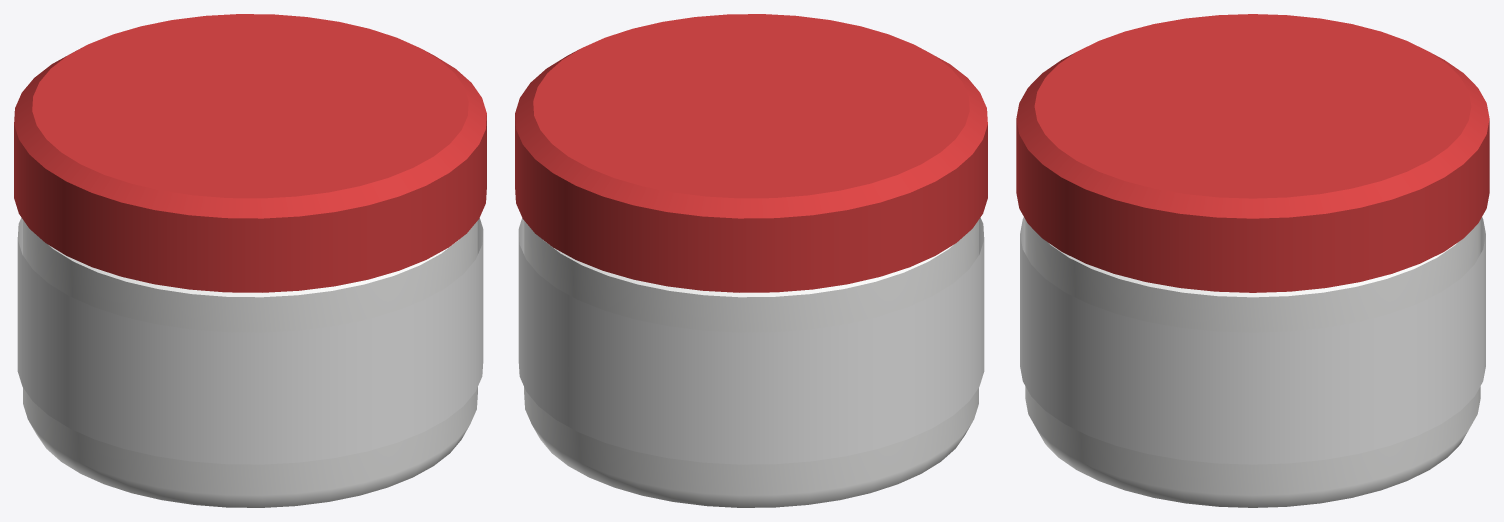
Rendered from jar.glb.
3 views of the same model, side by side, from view 1: azimuth 30°, elevation 25°; view 2: azimuth 150°, elevation 25°; view 3: azimuth 270°, elevation 25° (orthographic).
Visible parts, largest first — view 1: jar; view 2: jar; view 3: jar.
Boxes of the visible parts, bbox=[...] form: jar: bbox=[14, 14, 486, 507]; jar: bbox=[515, 14, 987, 507]; jar: bbox=[1016, 14, 1489, 507].
Size of the model in its own units: 0.052 by 0.0375 by 0.052.
